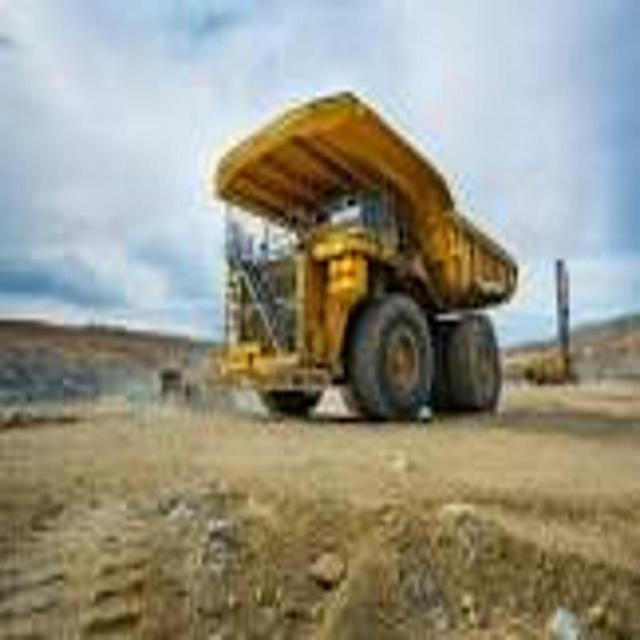dump_truck: (211, 82, 519, 434)
